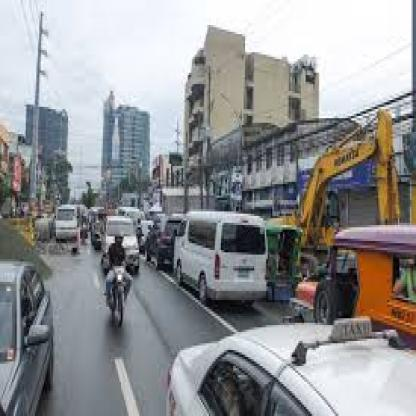car: (158, 306, 416, 416), (0, 246, 76, 416), (169, 197, 280, 310), (99, 208, 145, 276), (55, 198, 90, 257)
